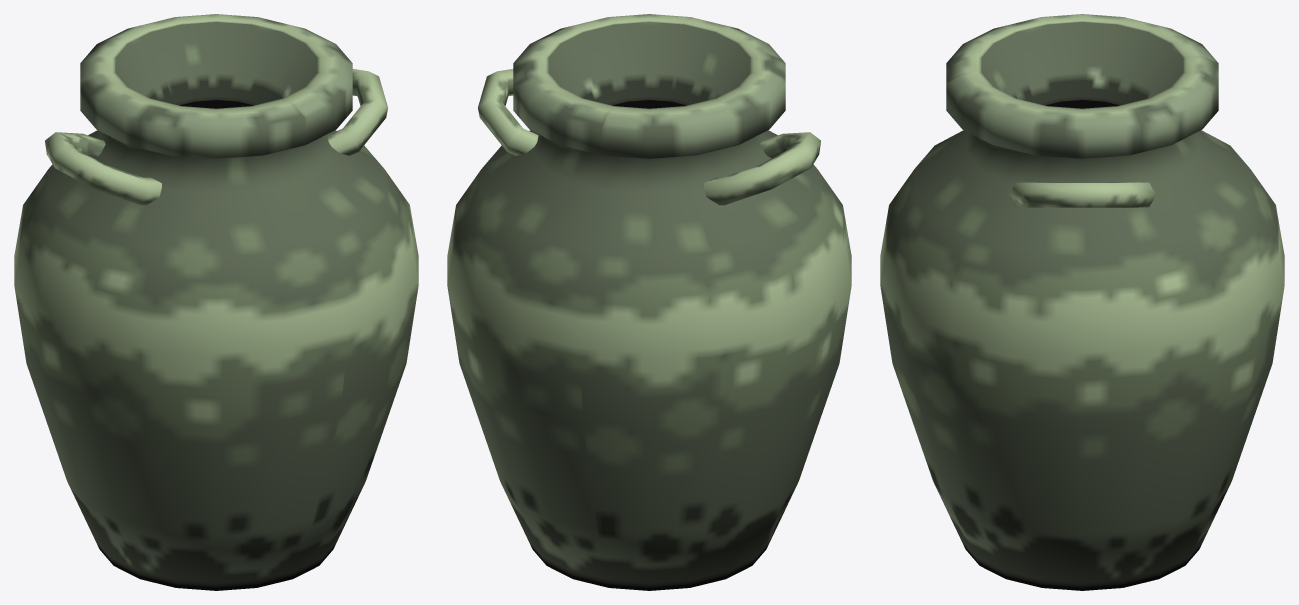
File: deco_winter_jar.FBX
3 renders of one model, left to right at view 1: azimuth 30°, elevation 25°; view 2: azimuth 150°, elevation 25°; view 3: azimuth 270°, elevation 25°, orthographic.
Parts seen in each view (by area): view 1: deco_winter_jar; view 2: deco_winter_jar; view 3: deco_winter_jar.
Part boxes in pixels (x1,y1,x2,y2): deco_winter_jar: (14,14,418,590); deco_winter_jar: (447,14,851,590); deco_winter_jar: (880,14,1284,590).
Size of the model in its own units: 1.72 by 2.2 by 1.7.
Materials: 1 (1 with a texture image).
